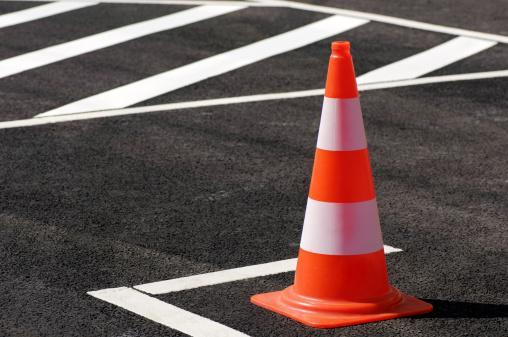Cone: (253, 42, 428, 327)
